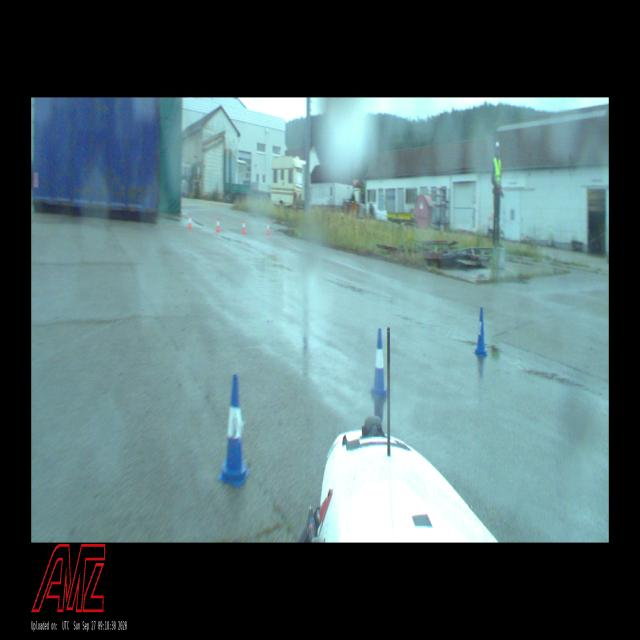blue_cone: (218, 374, 250, 486), (370, 328, 387, 396), (474, 307, 488, 357)
orange_cone: (187, 214, 192, 229), (216, 217, 220, 232), (242, 220, 246, 234), (266, 222, 270, 235)
